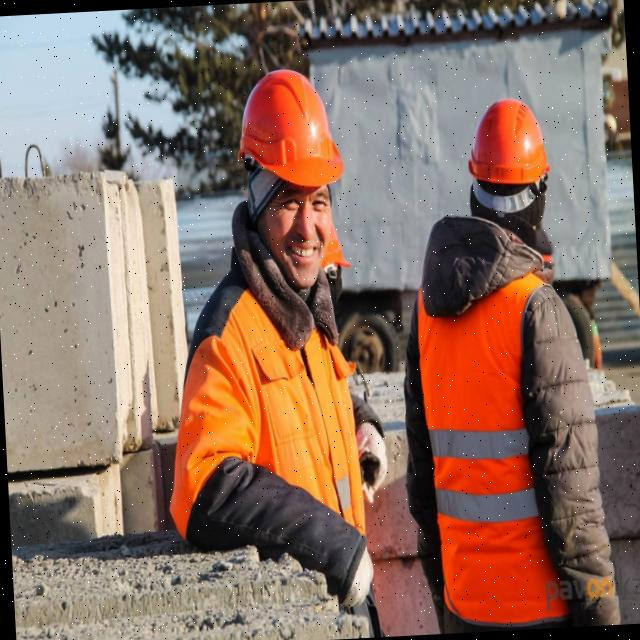Helmet: (235, 65, 348, 198), (465, 97, 552, 197)
Jacket: (418, 215, 558, 627), (190, 253, 371, 529)
